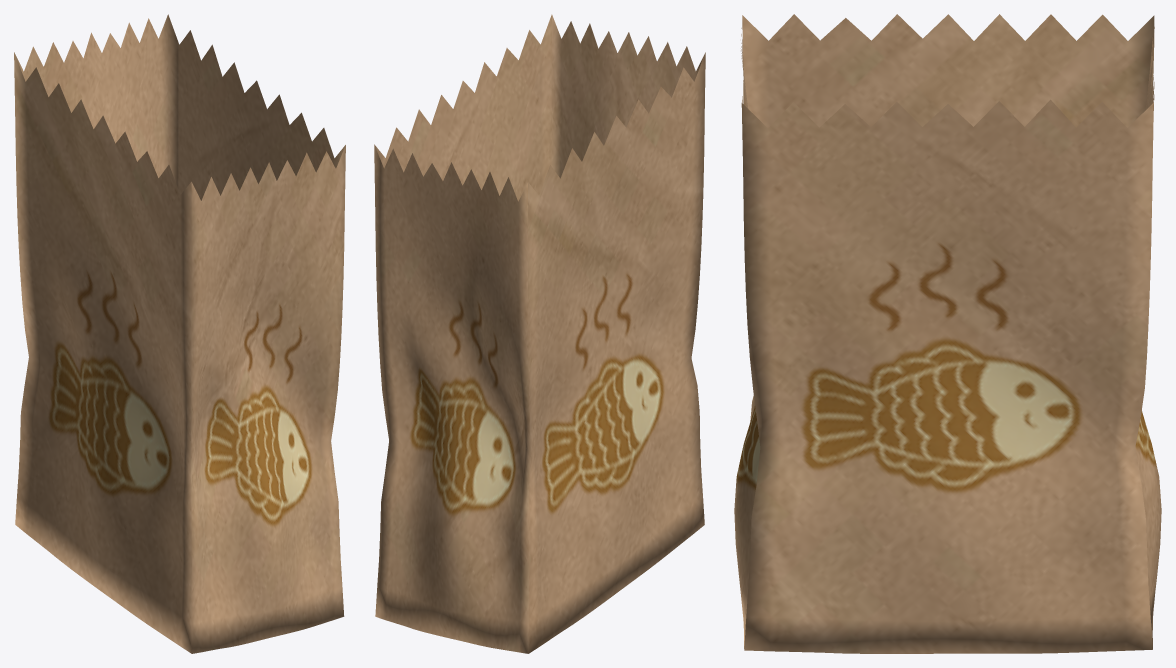
The model's file is Paper_Bag.fbx.
3 views of the same model, side by side, from view 1: azimuth 30°, elevation 25°; view 2: azimuth 150°, elevation 25°; view 3: azimuth 270°, elevation 25° (orthographic). The views are drawn at different scales.
Visible parts, largest first — view 1: Object_2; view 2: Object_2; view 3: Object_2.
Boxes of the visible parts, x1,y1,x2,y2 form: Object_2: [14, 14, 345, 653]; Object_2: [374, 14, 705, 653]; Object_2: [734, 14, 1161, 653].
Bounding box in the file's own units: 87.17 × 250 × 175.
